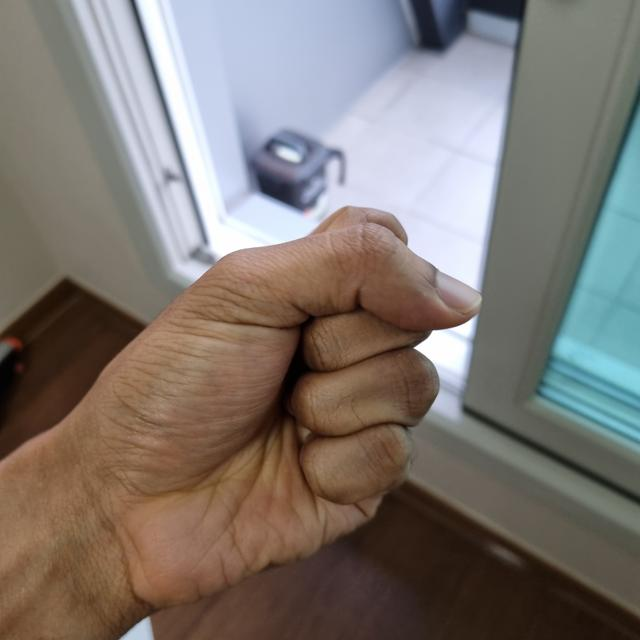Rock: (44, 208, 478, 604)
